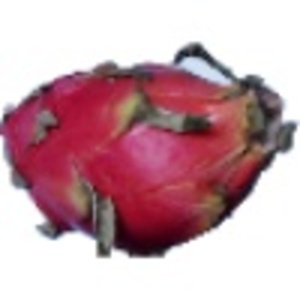pitaia: (1, 42, 300, 259)
